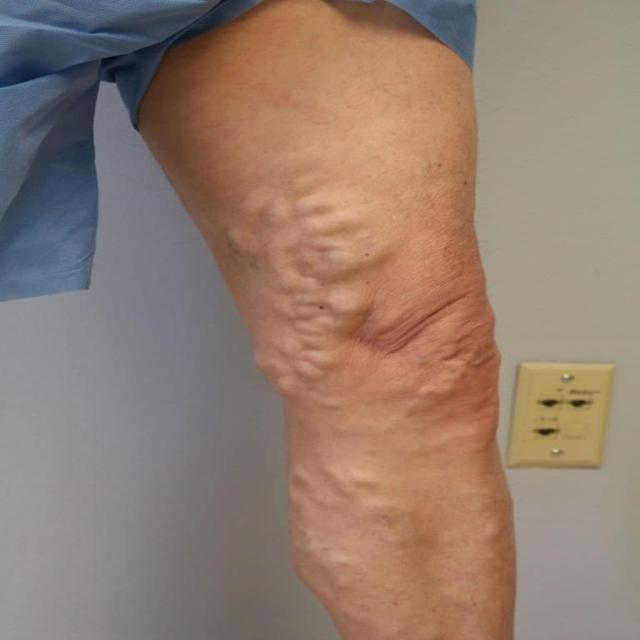Varicose: (194, 178, 584, 578)
